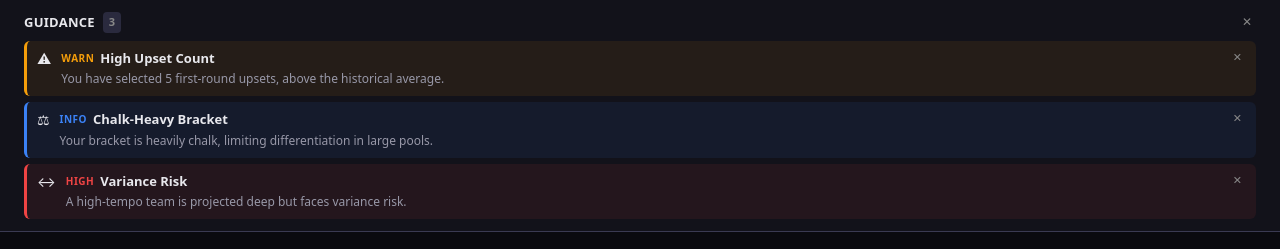
GuidancePanel › dismiss functionality › restores dismissed messages when 'Show dismissed' is clicked
Dismiss a message
Step 1. Click the button named "Dismiss: High Upset Count" → (1237, 56), box [1229,48,1246,64]
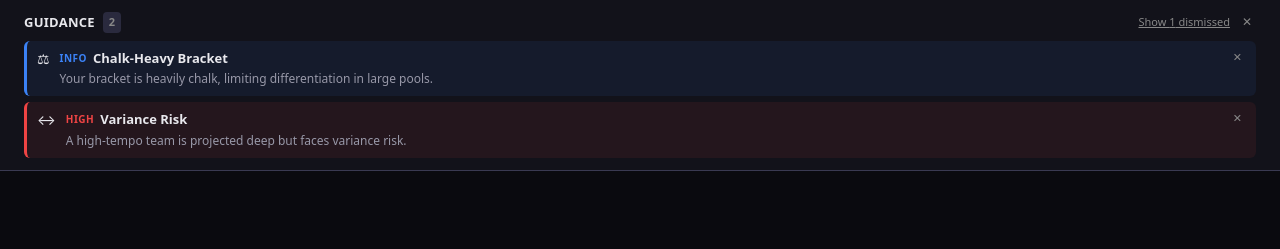
Expected: the text "High Upset Count" is gone
Click "Show dismissed"
Step 2. Click the button "Show 1 dismissed" → (1184, 22), box [1138,14,1230,30]
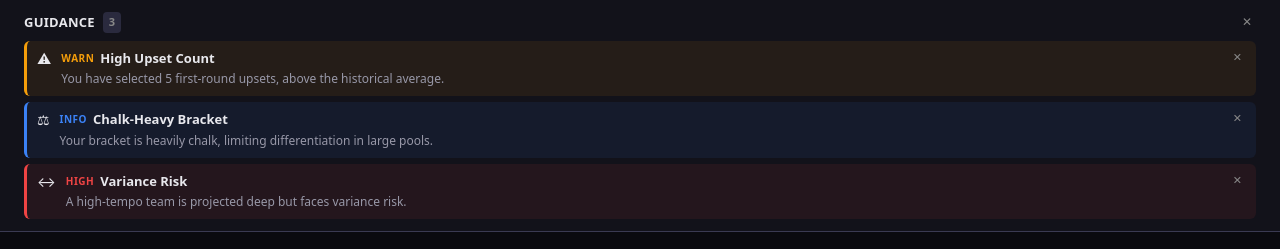
Expected: the text "High Upset Count" is shown, [100,48,215,68]
